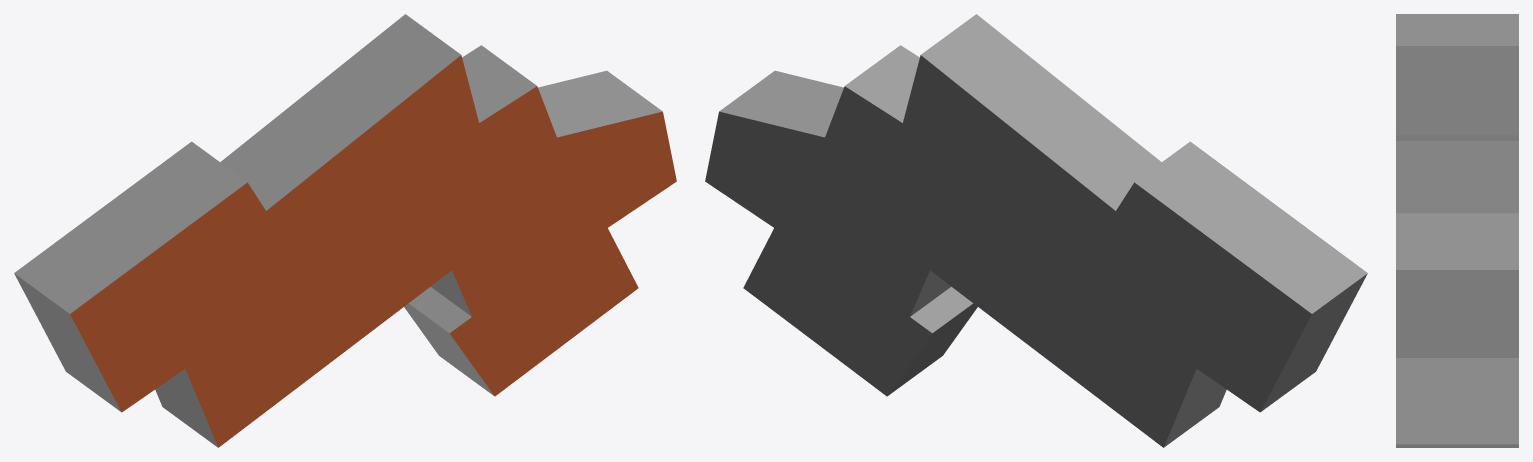
The model's file is construction_4025_assumed_A_Casa_h6m.obj.
3 views of the same model, side by side, from view 1: azimuth 30°, elevation 25°; view 2: azimuth 150°, elevation 25°; view 3: azimuth 270°, elevation 25° (orthographic). The views are drawn at different scales.
Parts seen in each view (by area): view 1: construction_4025_assumed_A_Casa; view 2: construction_4025_assumed_A_Casa; view 3: construction_4025_assumed_A_Casa.
Part boxes in pixels (x1,y1,x2,y2): construction_4025_assumed_A_Casa: [14, 14, 676, 447]; construction_4025_assumed_A_Casa: [705, 14, 1367, 447]; construction_4025_assumed_A_Casa: [1396, 14, 1518, 447].
Size of the model in its own units: 37.61 by 20.72 by 6.
